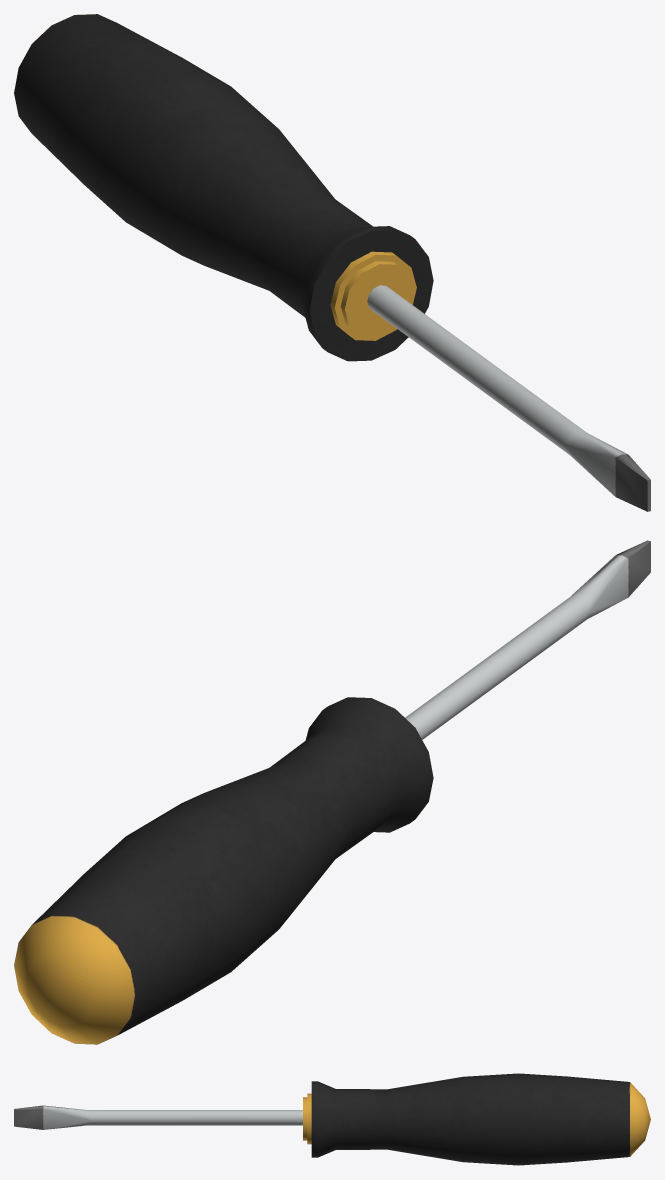
The model's file is instrument_02.glb.
3 renders of one model, top to bottom at view 1: azimuth 30°, elevation 25°; view 2: azimuth 150°, elevation 25°; view 3: azimuth 270°, elevation 25°, orthographic. The views are drawn at different scales.
Parts seen in each view (by area): view 1: otvertka_lp_Baked; view 2: otvertka_lp_Baked; view 3: otvertka_lp_Baked.
Part boxes in pixels (bbox=[...]): otvertka_lp_Baked: bbox=[14, 14, 650, 511]; otvertka_lp_Baked: bbox=[14, 540, 650, 1044]; otvertka_lp_Baked: bbox=[14, 1073, 650, 1165].
Size of the model in its own units: 0.0231 by 0.0231 by 0.1596.
Materials: 1 (1 with a texture image).
